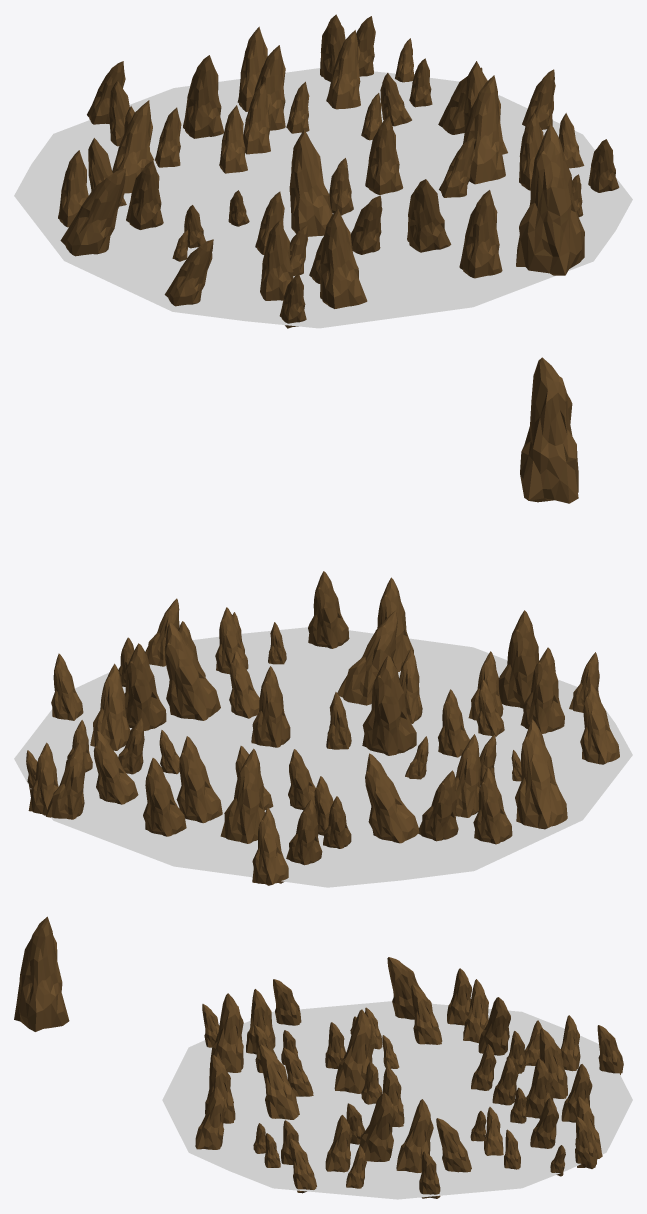
The model's file is spike attack.fbx.
3 renders of one model, top to bottom at view 1: azimuth 30°, elevation 25°; view 2: azimuth 150°, elevation 25°; view 3: azimuth 270°, elevation 25°, orthographic. The views are drawn at different scales.
Parts seen in each view (by area): view 1: Plane, Cube, Cube.009, Cube.034, Cube.030, Cube.014, Cube.024, Cube.005, Cube.022, Cube.038, Cube.019, Cube.032 (+33 smaller); view 2: Plane, Cube, Cube.034, Cube.009, Cube.014, Cube.038, Cube.005, Cube.030, Cube.022, Cube.040, Cube.046, Cube.032 (+28 smaller); view 3: Plane, Cube, Cube.009, Cube.022, Cube.030, Cube.014, Cube.046, Cube.023, Cube.034, Cube.038, Cube.035, Cube.005 (+33 smaller).
Boxes of the visible parts, <box> form: Plane: <box>14,68,632,328</box>; Cube: <box>516,124,584,275</box>; Cube.009: <box>289,129,332,236</box>; Cube.034: <box>60,168,125,256</box>; Cube.030: <box>320,209,367,308</box>; Cube.014: <box>463,75,505,184</box>; Cube.024: <box>459,190,502,278</box>; Cube.005: <box>183,55,223,138</box>; Cube.022: <box>407,179,451,252</box>; Cube.038: <box>112,100,152,193</box>; Cube.019: <box>365,116,403,194</box>; Cube.032: <box>260,220,293,300</box>; Plane: <box>14,627,632,887</box>; Cube: <box>520,357,578,503</box>; Cube.034: <box>515,719,567,829</box>; Cube.009: <box>362,655,416,755</box>; Cube.014: <box>164,622,220,720</box>; Cube.038: <box>365,753,419,843</box>; Cube.005: <box>220,748,264,843</box>; Cube.030: <box>499,610,539,708</box>; Cube.022: <box>337,610,397,705</box>; Cube.040: <box>176,736,222,823</box>; Cube.046: <box>124,643,166,730</box>; Cube.032: <box>520,647,564,733</box>; Plane: <box>162,1001,632,1199</box>; Cube: <box>14,916,69,1031</box>; Cube.009: <box>334,1009,375,1093</box>; Cube.022: <box>259,1044,299,1119</box>; Cube.030: <box>210,993,243,1072</box>; Cube.014: <box>359,1092,395,1161</box>; Cube.046: <box>396,1099,433,1172</box>; Cube.023: <box>195,1086,226,1149</box>; Cube.034: <box>387,957,422,1019</box>; Cube.038: <box>478,997,510,1055</box>; Cube.035: <box>411,984,442,1044</box>; Cube.005: <box>539,1028,567,1098</box>.
Size of the model in its own units: 13155 by 6062 by 17296.
